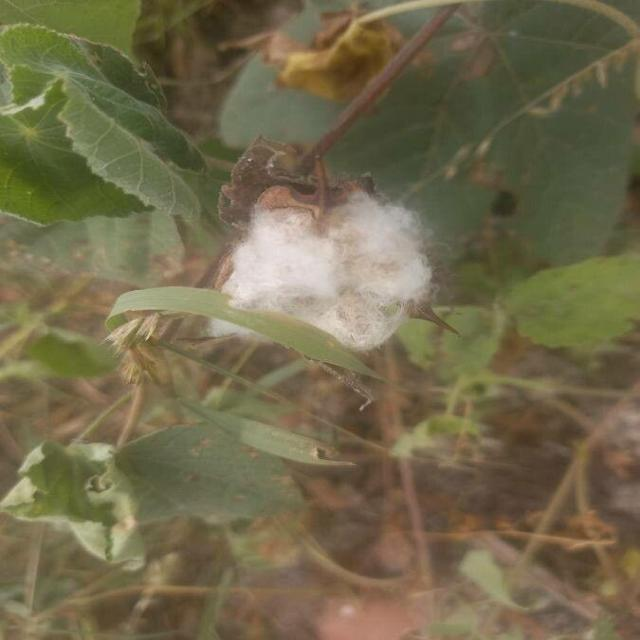Late_blight: (210, 175, 433, 350)
